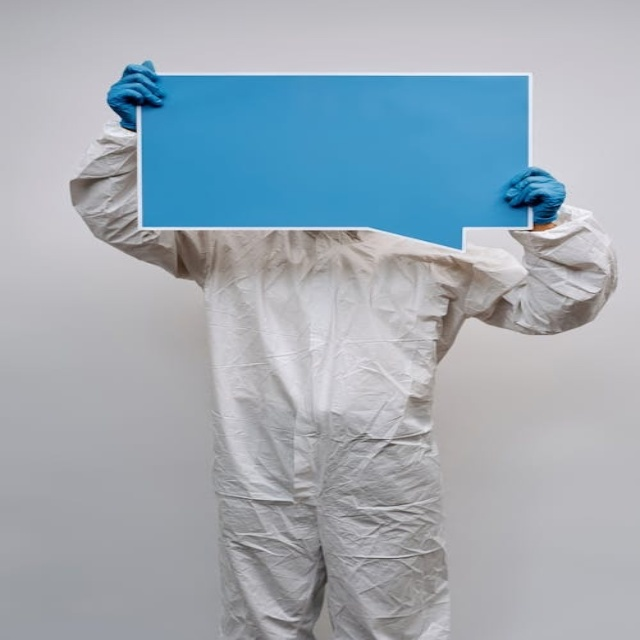Guantes: (107, 60, 166, 133), (501, 166, 566, 224)
